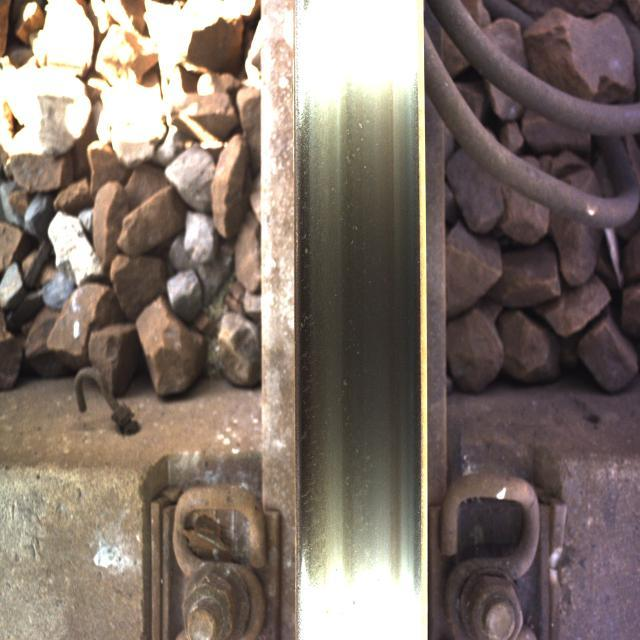break: (303, 8, 422, 620)
